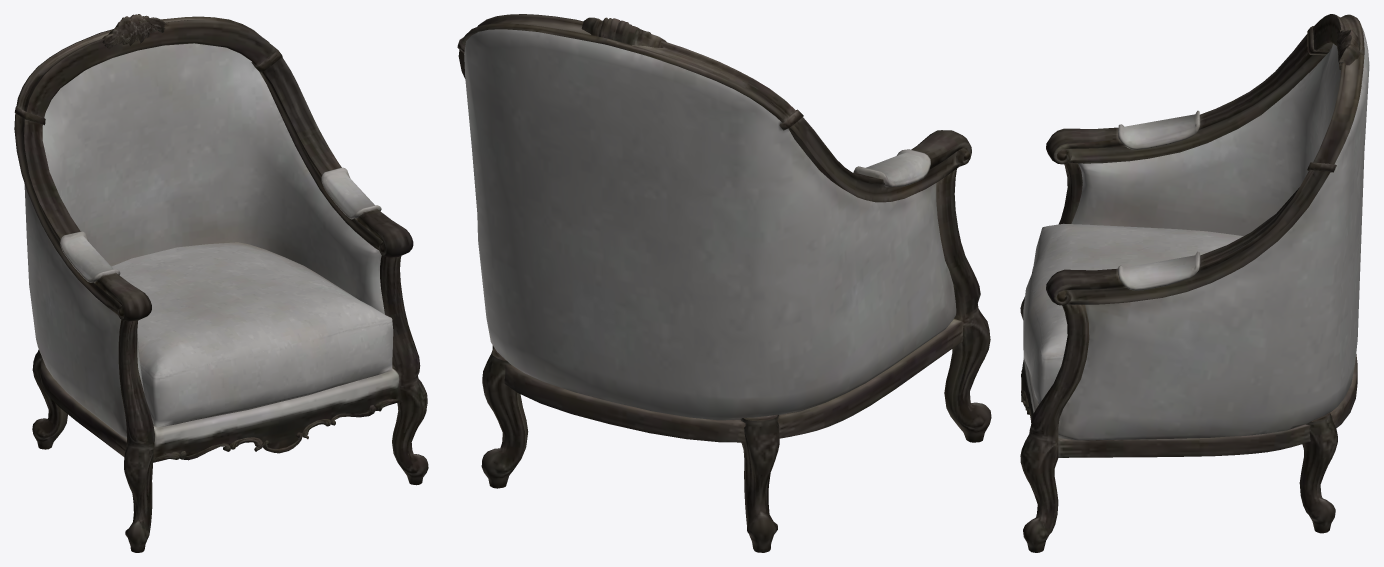
Rendered from ArmChair_01.glb.
The picture shows the model from 3 angles, left to right: view 1: azimuth 30°, elevation 25°; view 2: azimuth 150°, elevation 25°; view 3: azimuth 270°, elevation 25°; orthographic projection. The views are drawn at different scales.
Visible parts, largest first — view 1: ArmChair_01; view 2: ArmChair_01; view 3: ArmChair_01.
Part boxes in pixels (bbox=[...]): ArmChair_01: bbox=[14, 14, 428, 552]; ArmChair_01: bbox=[457, 14, 991, 552]; ArmChair_01: bbox=[1020, 14, 1369, 552].
Size of the model in its own units: 0.8485 by 1.07 by 0.7658.
Materials: 1 (1 with a texture image).
